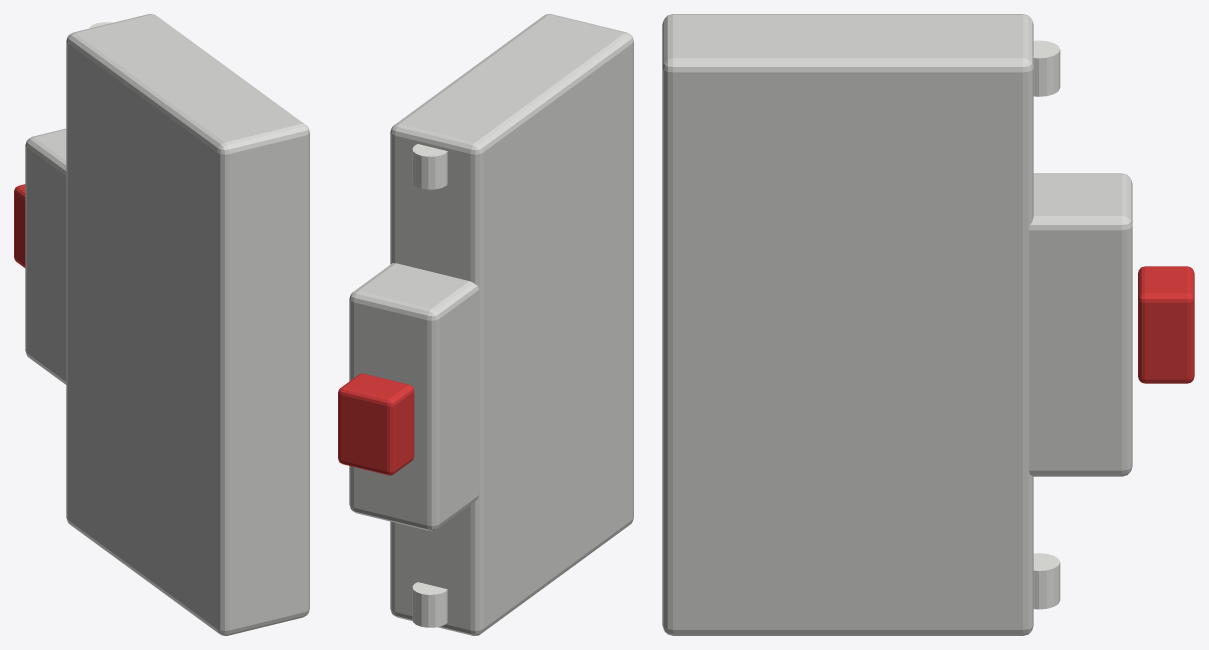
The model's file is generic-fuse-holder-dc-15a.glb.
3 views of the same model, side by side, from view 1: azimuth 30°, elevation 25°; view 2: azimuth 150°, elevation 25°; view 3: azimuth 270°, elevation 25° (orthographic). The views are drawn at different scales.
Parts seen in each view (by area): view 1: body, front, toggle; view 2: body, front, toggle, term-l1, term-t1; view 3: body, front, toggle, term-l1, term-t1.
Boxes of the visible parts, x1=… form: body: x1=66, y1=14, x2=309, y2=635; front: x1=25, y1=128, x2=66, y2=384; toggle: x1=14, y1=184, x2=25, y2=267; body: x1=390, y1=14, x2=633, y2=635; front: x1=349, y1=263, x2=479, y2=530; toggle: x1=338, y1=373, x2=414, y2=475; term-l1: x1=412, y1=144, x2=447, y2=189; term-t1: x1=412, y1=582, x2=447, y2=627; body: x1=662, y1=14, x2=1033, y2=635; front: x1=1028, y1=173, x2=1132, y2=476; toggle: x1=1138, y1=266, x2=1194, y2=383; term-l1: x1=1033, y1=40, x2=1060, y2=96; term-t1: x1=1033, y1=553, x2=1060, y2=609.
Size of the model in its own units: 0.0175 by 0.09 by 0.0752.
